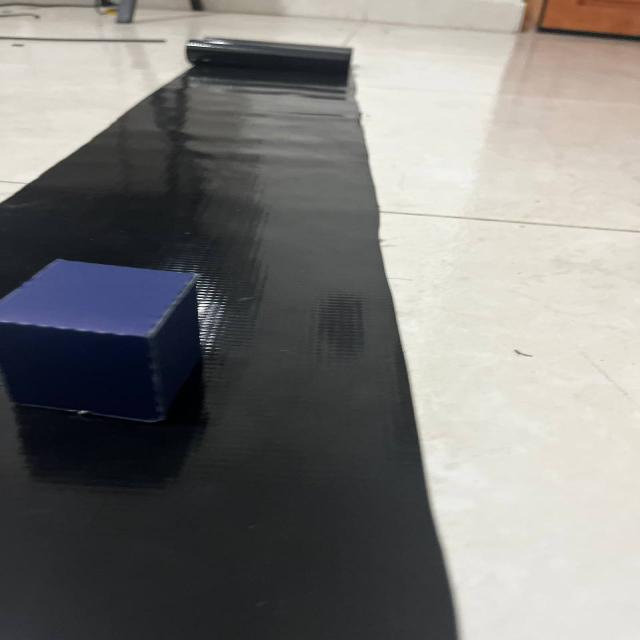Azul: (0, 250, 232, 433)
